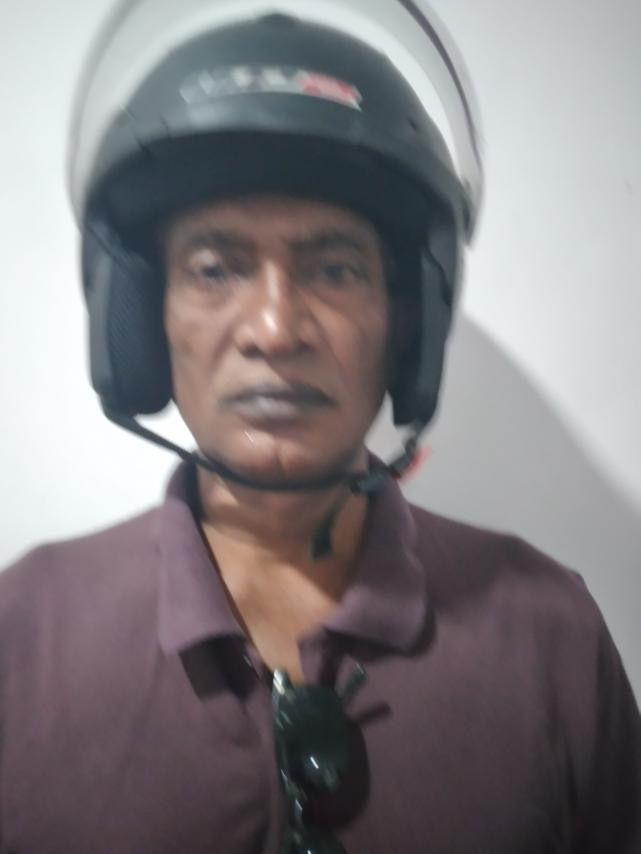helmet: (65, 0, 487, 431)
